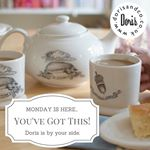cups: (86, 52, 146, 118), (1, 48, 28, 112)
